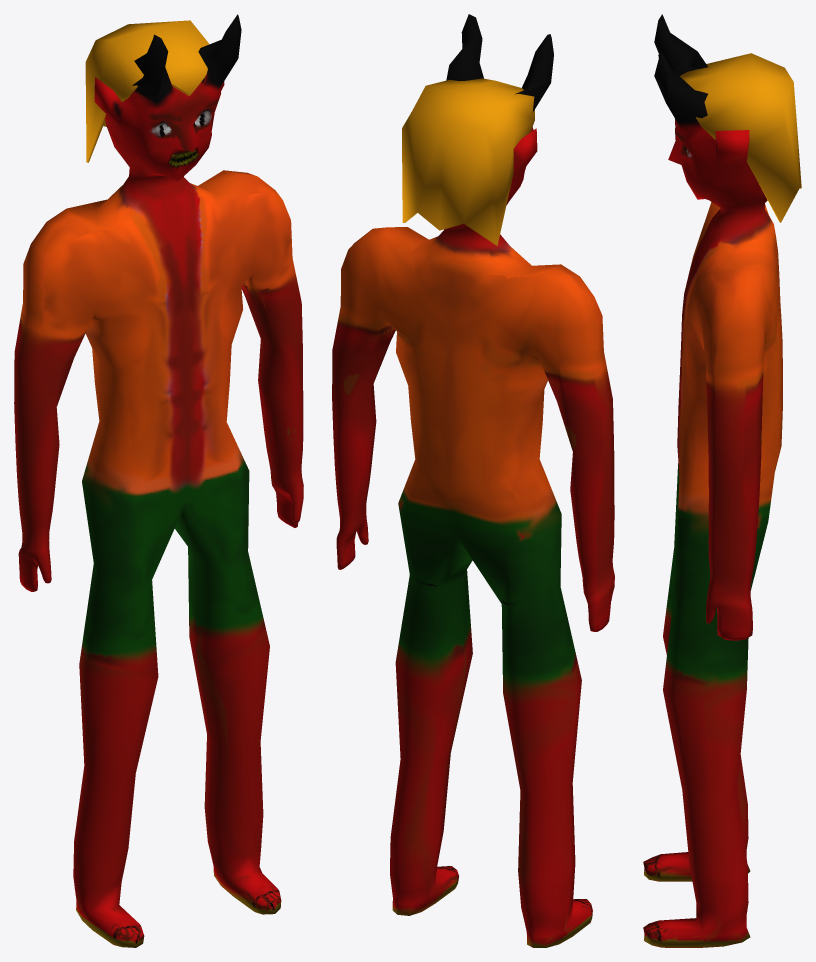
Rendered from Demon_Man_2 1.fbx.
3 renders of one model, left to right at view 1: azimuth 30°, elevation 25°; view 2: azimuth 150°, elevation 25°; view 3: azimuth 270°, elevation 25°, orthographic. The views are drawn at different scales.
Visible parts, largest first — view 1: DemonRahat; view 2: DemonRahat; view 3: DemonRahat.
Boxes of the visible parts, x1,y1,x2,y2 form: DemonRahat: [14, 14, 303, 947]; DemonRahat: [332, 14, 614, 947]; DemonRahat: [643, 14, 801, 947].
Bounding box in the file's own units: 135 × 415 × 68.07.
2 materials, 1 textured.
